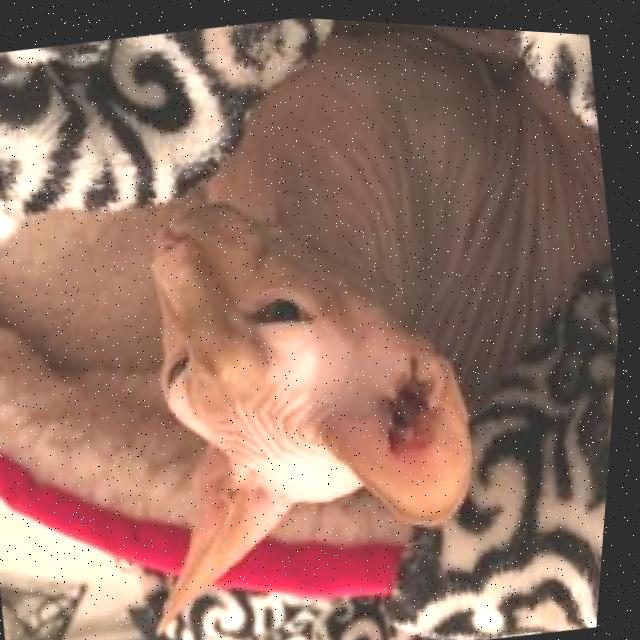Sphynx: (57, 4, 640, 640)
